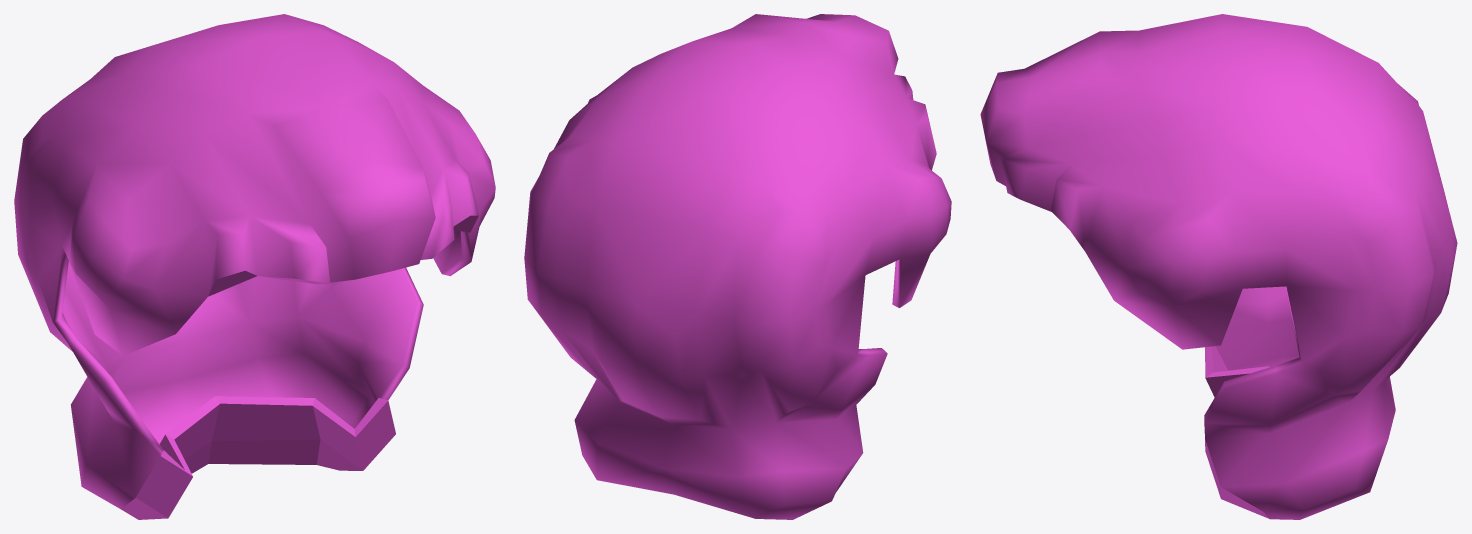
The model's file is character hair 18.fbx.
The picture shows the model from 3 angles, left to right: view 1: azimuth 30°, elevation 25°; view 2: azimuth 150°, elevation 25°; view 3: azimuth 270°, elevation 25°; orthographic projection. The views are drawn at different scales.
Parts seen in each view (by area): view 1: hair18; view 2: hair18; view 3: hair18.
Part boxes in pixels (x1,y1,x2,y2): hair18: (14,14,495,519); hair18: (524,14,951,519); hair18: (980,14,1457,519).
Size of the model in its own units: 0.4525 by 0.5213 by 0.5044.
